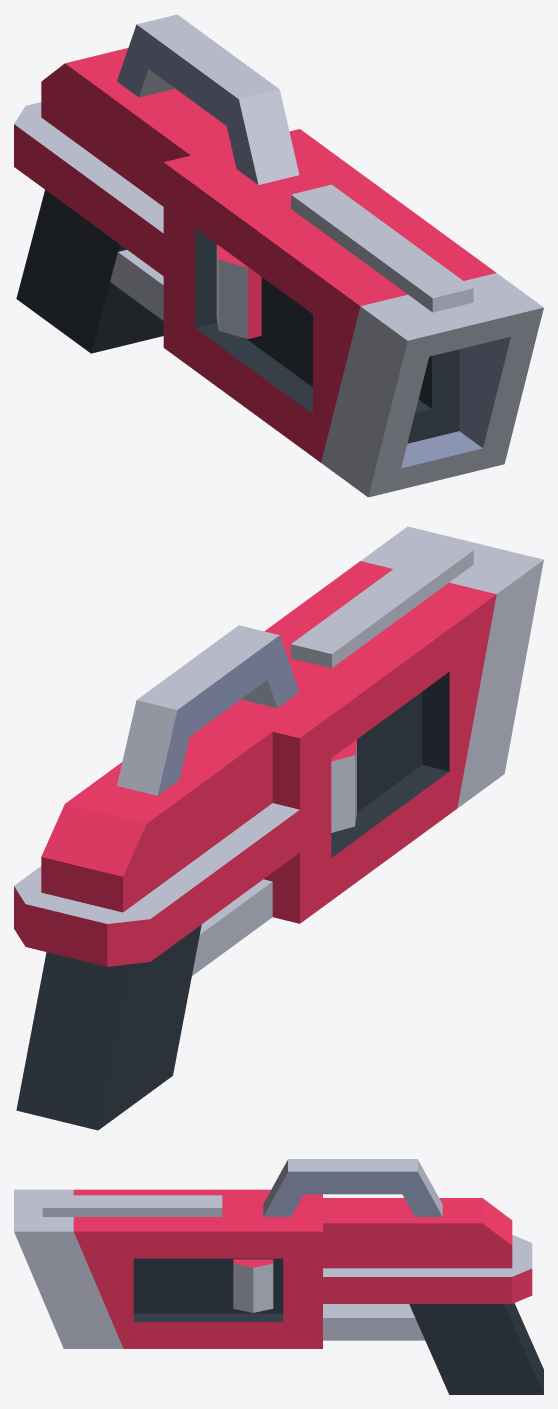
Rendered from blasterH.glb.
The picture shows the model from 3 angles, top to bottom: view 1: azimuth 30°, elevation 25°; view 2: azimuth 150°, elevation 25°; view 3: azimuth 270°, elevation 25°; orthographic projection. The views are drawn at different scales.
Visible parts, largest first — view 1: blasterH; view 2: blasterH; view 3: blasterH.
Part boxes in pixels (box(x1,y1,x2,y2)): blasterH: box(14, 14, 543, 497); blasterH: box(14, 526, 543, 1130); blasterH: box(14, 1159, 543, 1394).
Bounding box in the file's own units: 0.1 × 0.24 × 0.5316.
